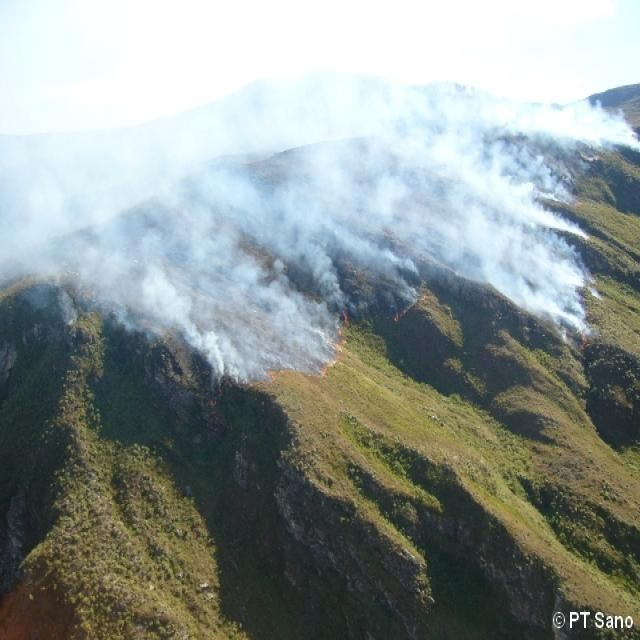Fire: (320, 308, 353, 378), (390, 292, 428, 322), (578, 330, 589, 353)
Smoke: (0, 0, 352, 382), (426, 4, 604, 338), (355, 0, 423, 301), (603, 106, 640, 154)
